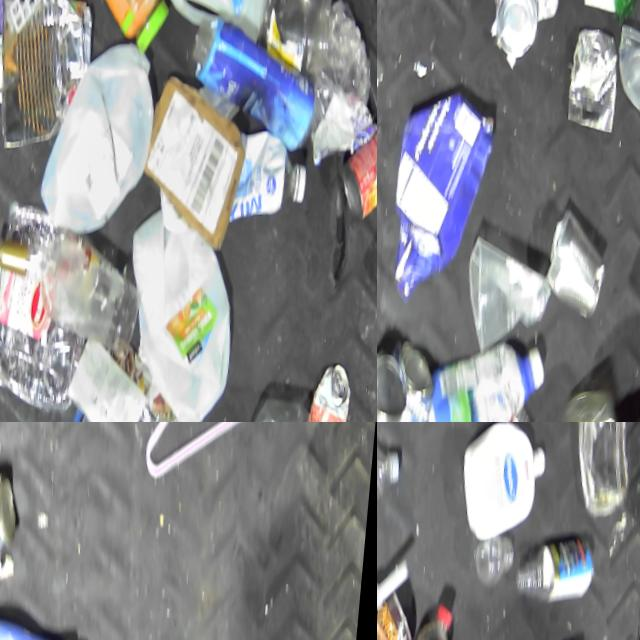can: (0, 0, 105, 150), (546, 199, 621, 319), (562, 16, 629, 136), (390, 333, 451, 422), (339, 107, 377, 216), (377, 343, 425, 422), (0, 460, 32, 575), (313, 356, 365, 422), (488, 0, 545, 59), (377, 580, 431, 640)
milk_jug: (123, 199, 255, 422), (33, 36, 172, 235), (129, 0, 286, 35)
non_white_jug: (385, 83, 516, 308), (428, 328, 563, 422), (0, 607, 102, 640)
plastic_bottle: (33, 223, 157, 362), (519, 530, 608, 604), (388, 592, 472, 640), (377, 425, 414, 533), (560, 375, 640, 422), (242, 387, 329, 422)
